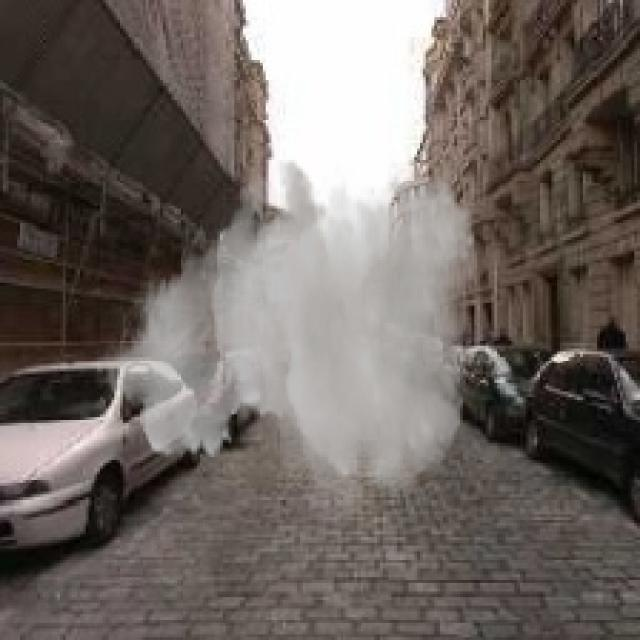smoke: (94, 157, 477, 540)
